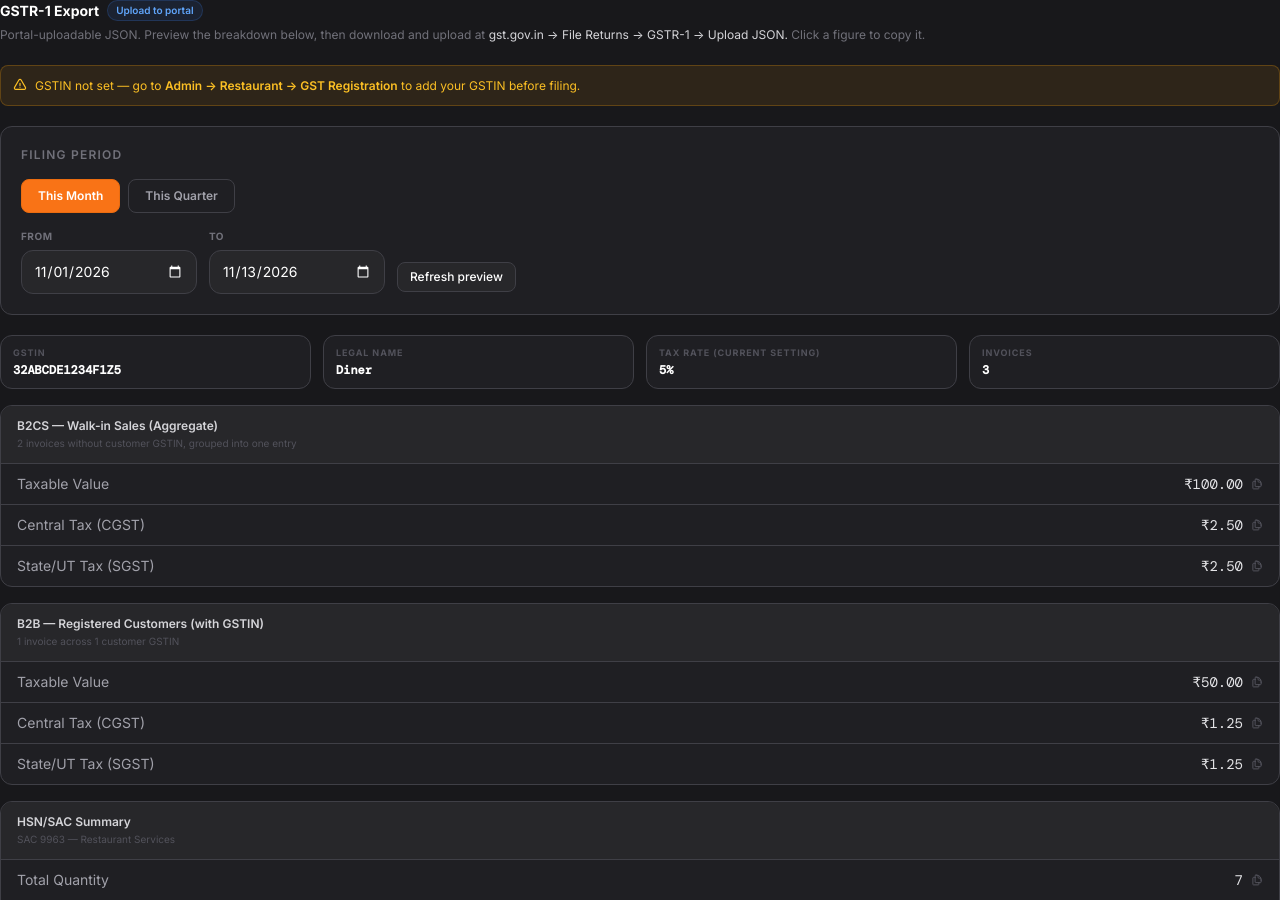
it: an inverted date range shows the error, sends no request and hides stale figures
The width and height of the screenshot is (1280, 900).
Type "2000-01-01" into the date field labelled "To".
click(297, 272); type("2000-01-01")  # box x1=209 y1=250 x2=385 y2=294
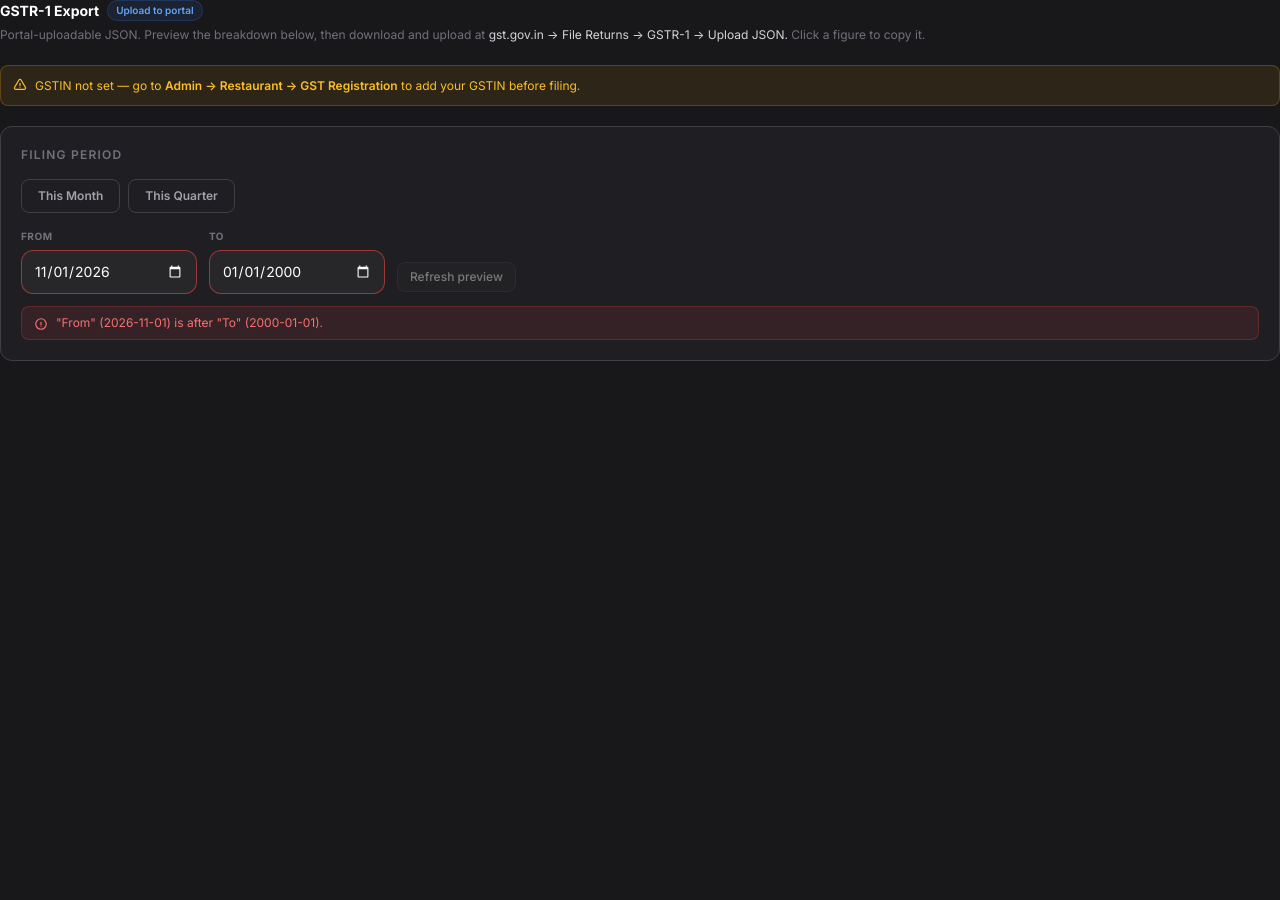
Check: the message "\"From\" (2026-11-01) is after \"To\" (2000-01-01)." is shown, box x1=21 y1=306 x2=1259 y2=340
